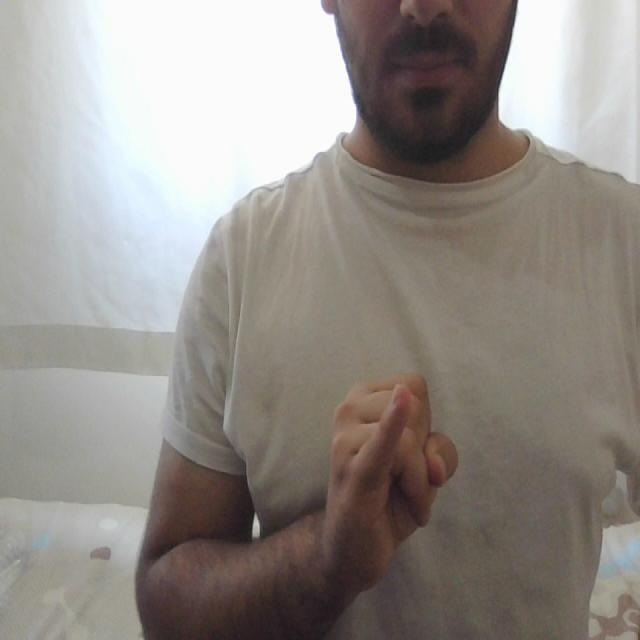kotu: (322, 358, 465, 550)
